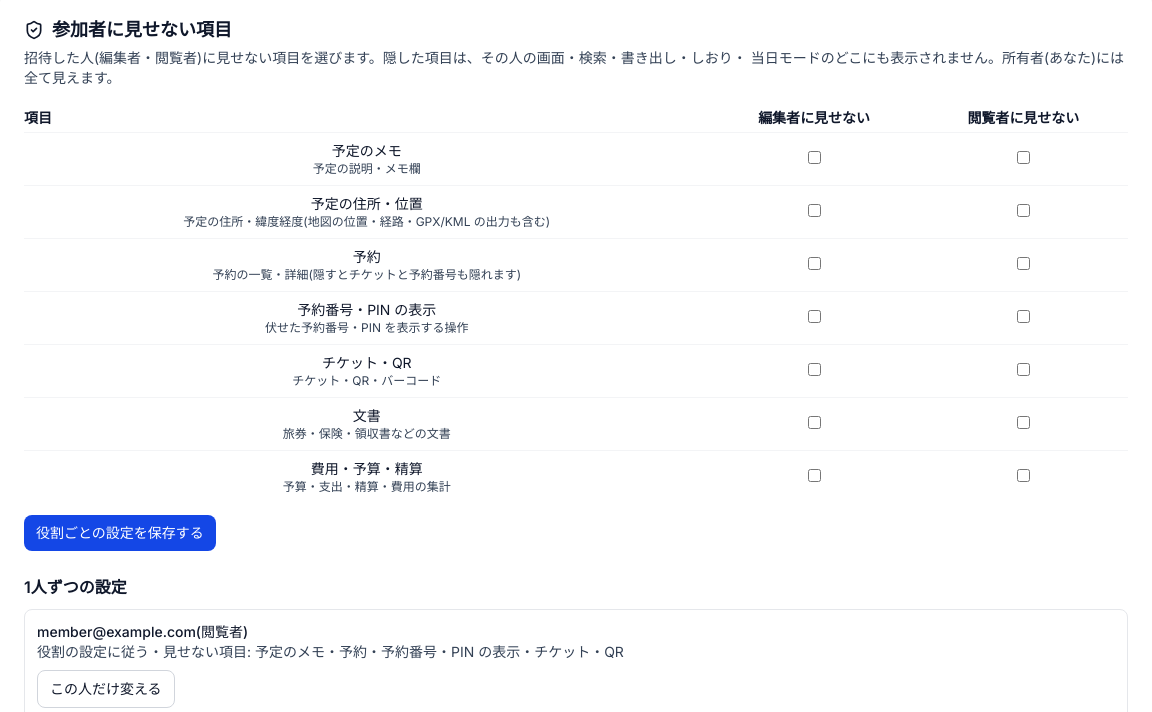
Test: 参加者に見せない項目 (Gate G2 FR-045) › 所有者: 役割ごとに選んで保存する。予約を選ぶとチケット・予約番号も選ばれる
Click the checkbox named "閲覧者に「予約」を見せない": (1023, 264) left=1017, top=257, right=1030, bottom=270
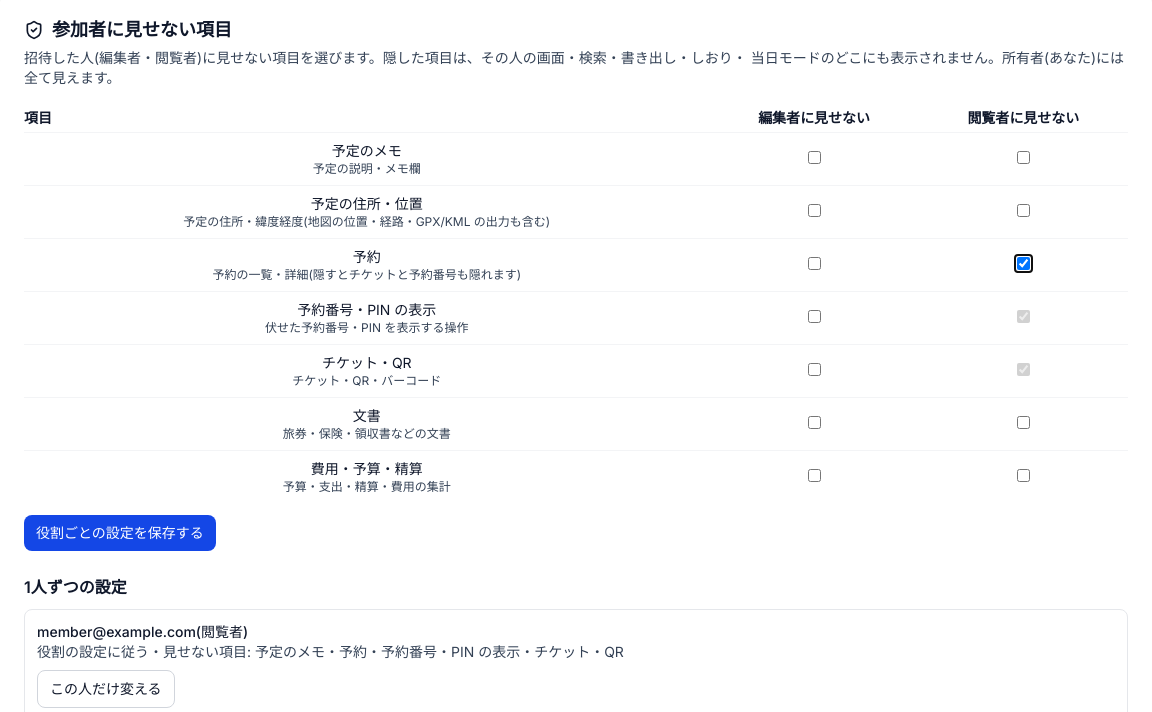
Expected: the checkbox named "閲覧者に「チケット・QR」を見せない" is checked, left=1017, top=363, right=1030, bottom=376
Expected: the checkbox named "閲覧者に「チケット・QR」を見せない" is disabled, left=1017, top=363, right=1030, bottom=376
Click the button "役割ごとの設定を保存する": (120, 533) left=24, top=515, right=216, bottom=551
(page scrolled)
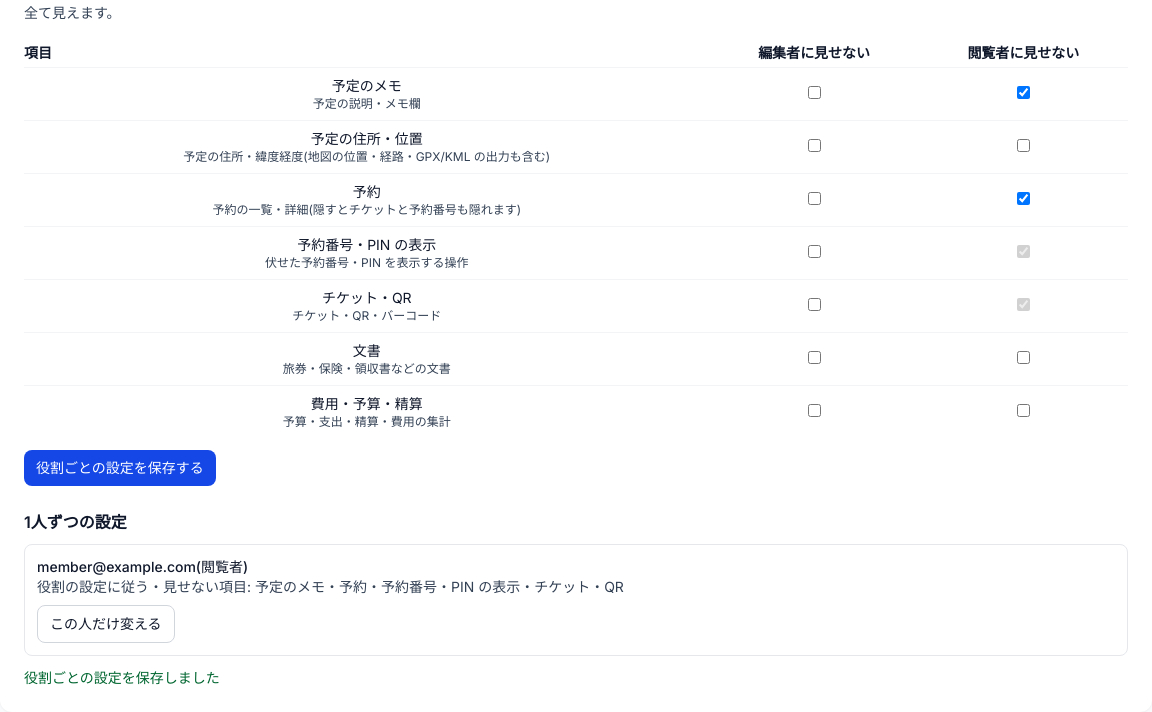
Expected: the message reads "役割ごとの設定を保存しました", left=24, top=669, right=220, bottom=686
